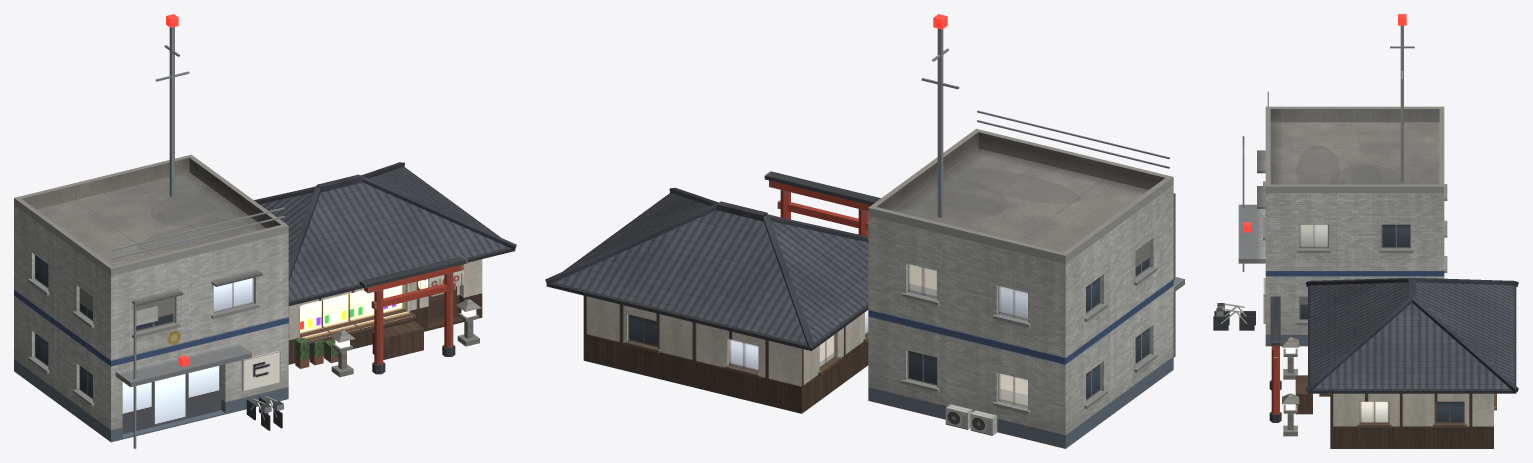
The model's file is tokyo_lowrise_d.glb.
3 views of the same model, side by side, from view 1: azimuth 30°, elevation 25°; view 2: azimuth 150°, elevation 25°; view 3: azimuth 270°, elevation 25° (orthographic). The views are drawn at different scales.
Visible parts, largest first — view 1: tokyo_lowrise_d; view 2: tokyo_lowrise_d; view 3: tokyo_lowrise_d.
Part boxes in pixels (x1=…): tokyo_lowrise_d: x1=14, y1=14, x2=516, y2=448; tokyo_lowrise_d: x1=545, y1=14, x2=1184, y2=448; tokyo_lowrise_d: x1=1213, y1=14, x2=1518, y2=448.
Bounding box in the file's own units: 18.5 × 13.85 × 12.31.
Materials: 1 (1 with a texture image).
